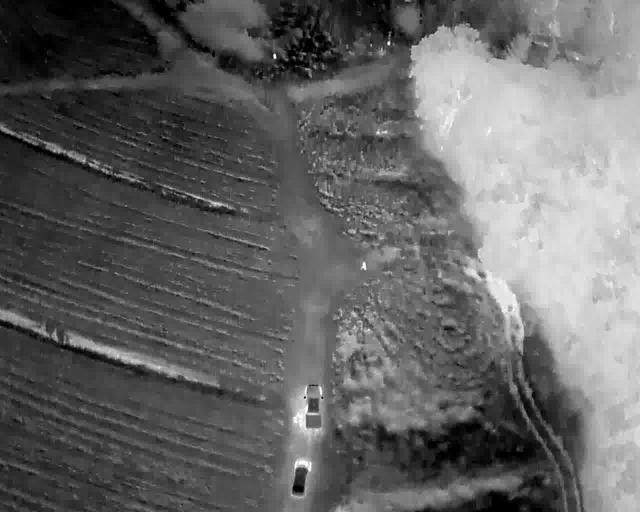car: (304, 383, 323, 428), (291, 458, 309, 498)
person: (359, 261, 366, 271), (291, 416, 297, 424)
